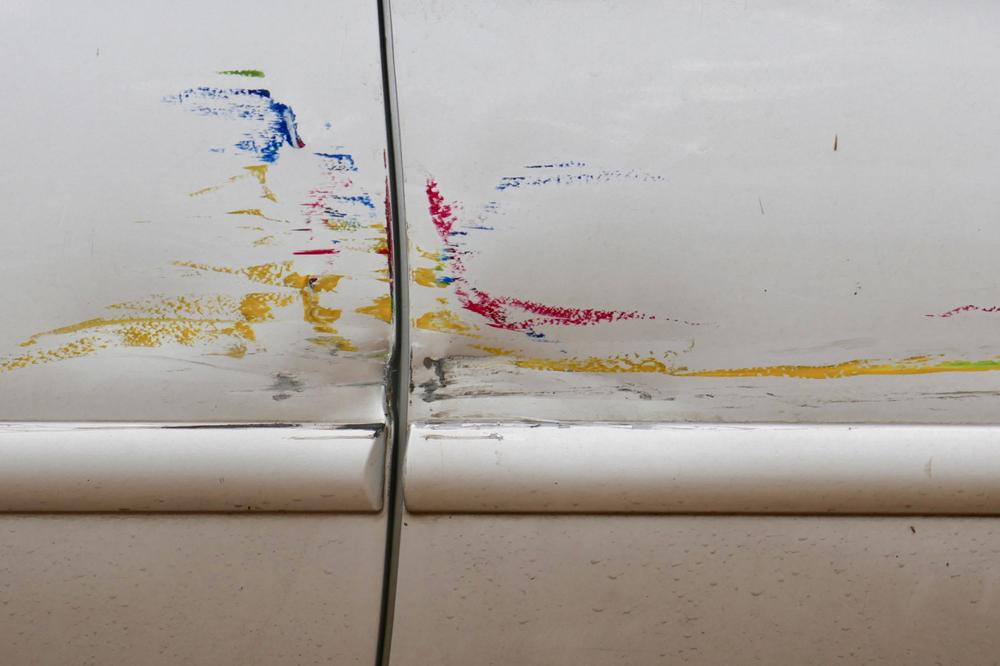scratch: (408, 154, 1000, 428), (0, 72, 404, 431)
